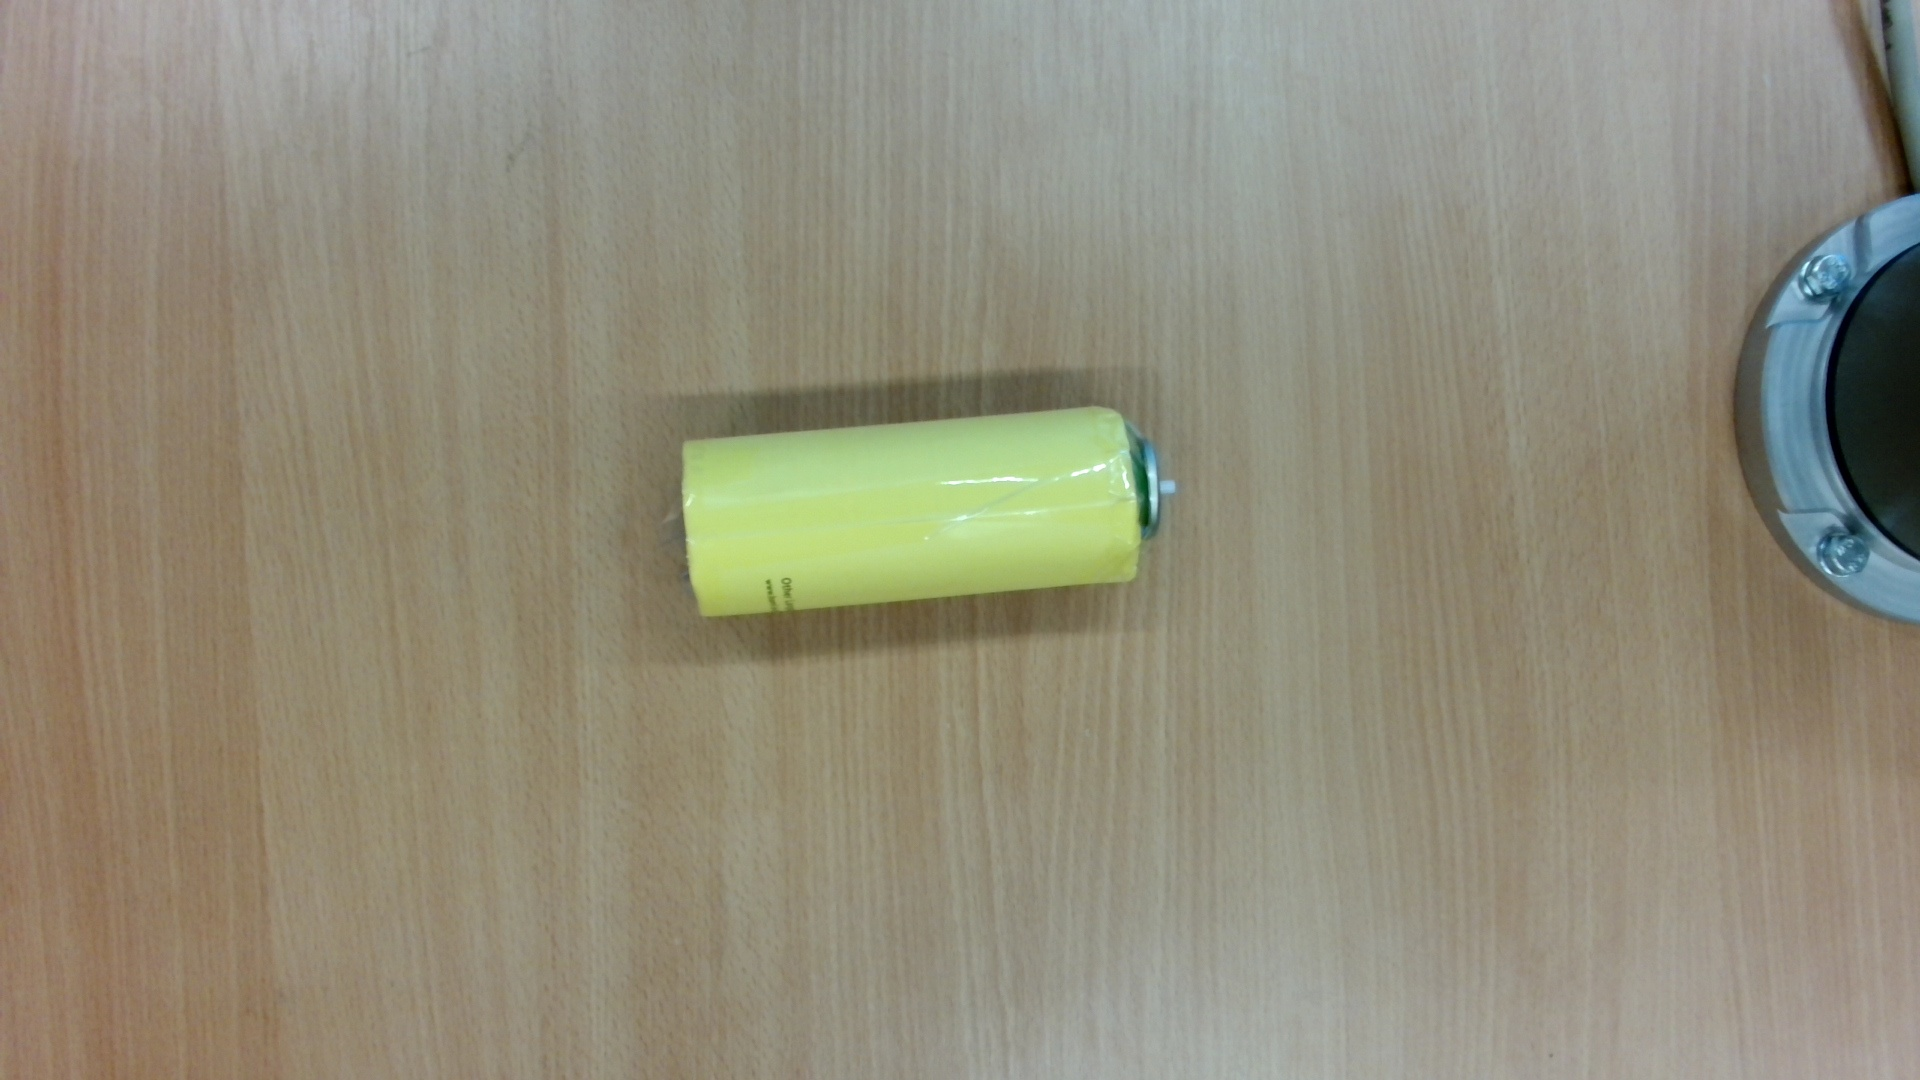Cylinder: (665, 396, 1193, 636)
